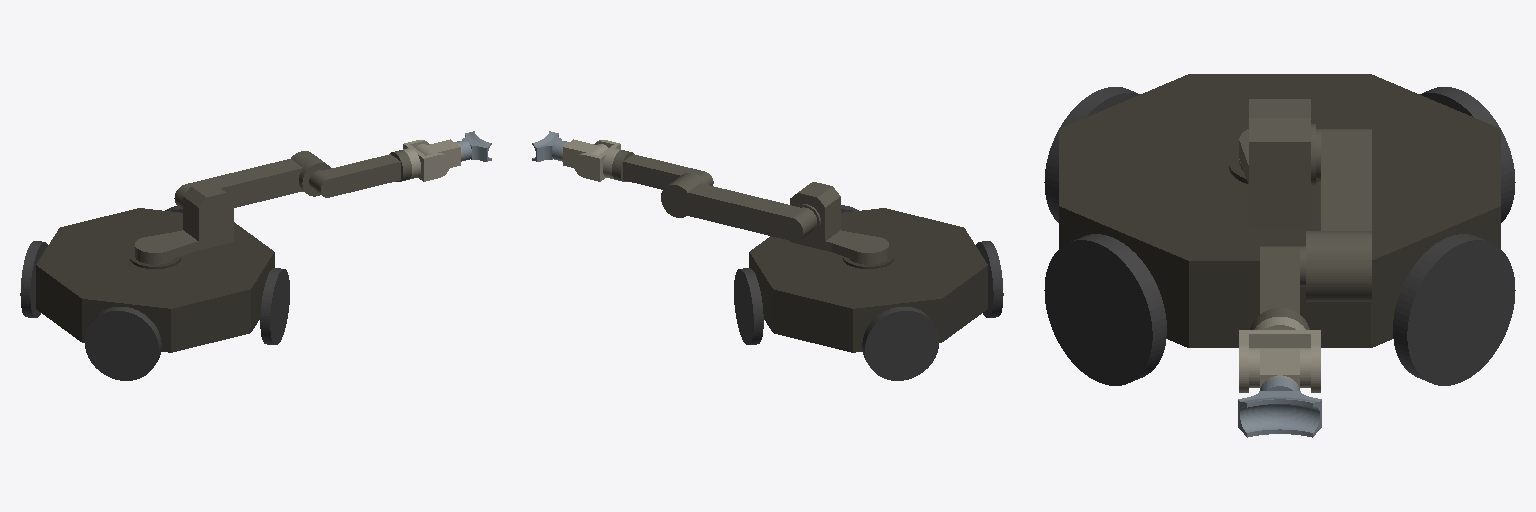
robot.urdf — D:\Cool_shit\Cool_code\OnShape robot\my-robot2:
<?xml version="1.0"?>
<!-- Generated using onshape-to-robot -->
<!-- Onshape
https://cad.onshape.com/documents/4865f398df68ad124dca97b4/w/fe60e401ba5973c10da35e1e/e/11b5855565c82aa8f3341dea -->
<robot name="D:\Cool_shit\Cool_code\OnShape robot\my-robot2">
    <!-- Link chassis_base -->
    <link name="chassis_base">
        <inertial>
            <origin xyz="-0 -0 0.0601917" rpy="0 0 0" />
            <mass value="10.4326" />
            <inertia ixx="0.220472" ixy="0" ixz="0" iyy="0.220472" iyz="0" izz="0.415751" />
        </inertial>
        <!-- Part chassis_base -->
        <visual>
            <origin xyz="-0 0 0" rpy="0 -0 0" />
            <geometry>
                <mesh filename="package://robot/discription/assets/chassis_base.stl" />
            </geometry>
            <material name="chassis_base_material">
                <color rgba="0.301961 0.290196 0.262745 1" />
            </material>
        </visual>
        <collision>
            <origin xyz="-0 0 0" rpy="0 -0 0" />
            <geometry>
                <mesh filename="package://robot/discription/assets/chassis_base.stl" />
            </geometry>
        </collision>
    </link>
    <!-- Link wheel -->
    <link name="wheel">
        <inertial>
            <origin xyz="-0 0 -0.0374135" rpy="0 0 0" />
            <mass value="0.453592" />
            <inertia ixx="0.00103386" ixy="-0" ixz="0" iyy="0.00103386" iyz="0" izz="0.00200356" />
        </inertial>
        <!-- Part wheel -->
        <visual>
            <origin xyz="-0 0 -0.0508" rpy="-1.5708 0 0" />
            <geometry>
                <mesh filename="package://robot/discription/assets/wheel.stl" />
            </geometry>
            <material name="wheel_material">
                <color rgba="0.301961 0.301961 0.301961 1" />
            </material>
        </visual>
        <collision>
            <origin xyz="-0 0 -0.0508" rpy="-1.5708 0 0" />
            <geometry>
                <mesh filename="package://robot/discription/assets/wheel.stl" />
            </geometry>
        </collision>
    </link>
    <!-- Joint from chassis_base to wheel -->
    <joint name="FL_wheel" type="continuous">
        <origin xyz="0.189964 -0.189964 0.0254" rpy="-1.5708 0 0.785398" />
        <parent link="chassis_base" />
        <child link="wheel" />
        <axis xyz="0 0 1" />
        <limit effort="10" velocity="10" />
    </joint>
    <!-- Link wheel_2 -->
    <link name="wheel_2">
        <inertial>
            <origin xyz="-0 0 -0.0374135" rpy="0 0 0" />
            <mass value="0.453592" />
            <inertia ixx="0.00103386" ixy="-0" ixz="0" iyy="0.00103386" iyz="0" izz="0.00200356" />
        </inertial>
        <!-- Part wheel_2 -->
        <visual>
            <origin xyz="-0 0 -0.0508" rpy="-1.5708 -0 0" />
            <geometry>
                <mesh filename="package://robot/discription/assets/wheel.stl" />
            </geometry>
            <material name="wheel_2_material">
                <color rgba="0.301961 0.301961 0.301961 1" />
            </material>
        </visual>
        <collision>
            <origin xyz="-0 0 -0.0508" rpy="-1.5708 -0 0" />
            <geometry>
                <mesh filename="package://robot/discription/assets/wheel.stl" />
            </geometry>
        </collision>
    </link>
    <!-- Joint from chassis_base to wheel_2 -->
    <joint name="BL_wheel" type="continuous">
        <origin xyz="0.189964 0.189964 0.0254" rpy="-1.5708 -0 2.35619" />
        <parent link="chassis_base" />
        <child link="wheel_2" />
        <axis xyz="0 0 1" />
        <limit effort="10" velocity="10" />
    </joint>
    <!-- Link wheel_3 -->
    <link name="wheel_3">
        <inertial>
            <origin xyz="0 0 -0.0374135" rpy="0 0 0" />
            <mass value="0.453592" />
            <inertia ixx="0.00103386" ixy="0" ixz="-0" iyy="0.00103386" iyz="-0" izz="0.00200356" />
        </inertial>
        <!-- Part wheel_3 -->
        <visual>
            <origin xyz="0 -0 -0.0508" rpy="-1.5708 0 0" />
            <geometry>
                <mesh filename="package://robot/discription/assets/wheel.stl" />
            </geometry>
            <material name="wheel_3_material">
                <color rgba="0.301961 0.301961 0.301961 1" />
            </material>
        </visual>
        <collision>
            <origin xyz="0 -0 -0.0508" rpy="-1.5708 0 0" />
            <geometry>
                <mesh filename="package://robot/discription/assets/wheel.stl" />
            </geometry>
        </collision>
    </link>
    <!-- Joint from chassis_base to wheel_3 -->
    <joint name="BR_wheel" type="continuous">
        <origin xyz="-0.189964 0.189964 0.0254" rpy="0.785398 1.5708 0" />
        <parent link="chassis_base" />
        <child link="wheel_3" />
        <axis xyz="0 0 1" />
        <limit effort="10" velocity="10" />
    </joint>
    <!-- Link wheel_4 -->
    <link name="wheel_4">
        <inertial>
            <origin xyz="0 0 -0.0374135" rpy="0 0 0" />
            <mass value="0.453592" />
            <inertia ixx="0.00103386" ixy="0" ixz="-0" iyy="0.00103386" iyz="-0" izz="0.00200356" />
        </inertial>
        <!-- Part wheel_4 -->
        <visual>
            <origin xyz="0 0 -0.0508" rpy="-1.5708 -0 0" />
            <geometry>
                <mesh filename="package://robot/discription/assets/wheel.stl" />
            </geometry>
            <material name="wheel_4_material">
                <color rgba="0.301961 0.301961 0.301961 1" />
            </material>
        </visual>
        <collision>
            <origin xyz="0 0 -0.0508" rpy="-1.5708 -0 0" />
            <geometry>
                <mesh filename="package://robot/discription/assets/wheel.stl" />
            </geometry>
        </collision>
    </link>
    <!-- Joint from chassis_base to wheel_4 -->
    <joint name="FR_wheel" type="continuous">
        <origin xyz="-0.189964 -0.189964 0.0254" rpy="1.5708 0 2.35619" />
        <parent link="chassis_base" />
        <child link="wheel_4" />
        <axis xyz="0 0 1" />
        <limit effort="10" velocity="10" />
    </joint>
    <!-- Link sholder_link -->
    <link name="sholder_link">
        <inertial>
            <origin xyz="0.11856 0.000824426 -0.0233279" rpy="0 0 0" />
            <mass value="3.17515" />
            <inertia ixx="0.00734966" ixy="-8.85808e-05" ixz="-0.00458909" iyy="0.0191744"
                iyz="-6.10648e-05" izz="0.0153109" />
        </inertial>
        <!-- Part sholder_link -->
        <visual>
            <origin xyz="-0 0 -0.08255" rpy="0 -0 1.5708" />
            <geometry>
                <mesh filename="package://robot/discription/assets/sholder_link.stl" />
            </geometry>
            <material name="sholder_link_material">
                <color rgba="0.4 0.388235 0.34902 1" />
            </material>
        </visual>
        <collision>
            <origin xyz="-0 0 -0.08255" rpy="0 -0 1.5708" />
            <geometry>
                <mesh filename="package://robot/discription/assets/sholder_link.stl" />
            </geometry>
        </collision>
    </link>
    <!-- Link elbow_link -->
    <link name="elbow_link">
        <inertial>
            <origin xyz="0.187183 0 0.0794517" rpy="0 0 0" />
            <mass value="2.30017" />
            <inertia ixx="0.00185382" ixy="0" ixz="0.000723181" iyy="0.0338876" iyz="0"
                izz="0.0337722" />
        </inertial>
        <!-- Part elbow_link -->
        <visual>
            <origin xyz="0 0 0.0508" rpy="-1.5708 -1.5708 0" />
            <geometry>
                <mesh filename="package://robot/discription/assets/elbow_link.stl" />
            </geometry>
            <material name="elbow_link_material">
                <color rgba="0.4 0.388235 0.34902 1" />
            </material>
        </visual>
        <collision>
            <origin xyz="0 0 0.0508" rpy="-1.5708 -1.5708 0" />
            <geometry>
                <mesh filename="package://robot/discription/assets/elbow_link.stl" />
            </geometry>
        </collision>
    </link>
    <!-- Link forearm_link -->
    <link name="forearm_link">
        <inertial>
            <origin xyz="0.110324 -0 -0.031228" rpy="0 0 0" />
            <mass value="1.39979" />
            <inertia ixx="0.000678317" ixy="0" ixz="8.0609e-05" iyy="0.00841159" iyz="-0"
                izz="0.00838963" />
        </inertial>
        <!-- Part forearm_link -->
        <visual>
            <origin xyz="-0 -0 -0.00635" rpy="-1.5708 1.5708 0" />
            <geometry>
                <mesh filename="package://robot/discription/assets/forearm_link.stl" />
            </geometry>
            <material name="forearm_link_material">
                <color rgba="0.4 0.388235 0.34902 1" />
            </material>
        </visual>
        <collision>
            <origin xyz="-0 -0 -0.00635" rpy="-1.5708 1.5708 0" />
            <geometry>
                <mesh filename="package://robot/discription/assets/forearm_link.stl" />
            </geometry>
        </collision>
    </link>
    <!-- Link wrist_joint_1 -->
    <link name="wrist_joint_1">
        <inertial>
            <origin xyz="0 0 -0.0317922" rpy="0 0 0" />
            <mass value="1.00017" />
            <inertia ixx="0.00172648" ixy="0" ixz="0" iyy="0.00101253" iyz="0" izz="0.00135586" />
        </inertial>
        <!-- Part wrist_joint_1 -->
        <visual>
            <origin xyz="0 -0 -0.06985" rpy="-1.5708 0 -1.5708" />
            <geometry>
                <mesh filename="package://robot/discription/assets/wrist_joint_1.stl" />
            </geometry>
            <material name="wrist_joint_1_material">
                <color rgba="0.6 0.580392 0.529412 1" />
            </material>
        </visual>
        <collision>
            <origin xyz="0 -0 -0.06985" rpy="-1.5708 0 -1.5708" />
            <geometry>
                <mesh filename="package://robot/discription/assets/wrist_joint_1.stl" />
            </geometry>
        </collision>
    </link>
    <!-- Link wrist_joint_2 -->
    <link name="wrist_joint_2">
        <inertial>
            <origin xyz="-0.0277563 0 -0.03175" rpy="0 0 0" />
            <mass value="1.00017" />
            <inertia ixx="0.000465178" ixy="-0" ixz="0" iyy="0.00115046" iyz="-0" izz="0.00108167" />
        </inertial>
        <!-- Part wrist_joint_2 -->
        <visual>
            <origin xyz="0.06985 0 -0.03175" rpy="-1.5708 -1.5708 0" />
            <geometry>
                <mesh filename="package://robot/discription/assets/wrist_joint_2.stl" />
            </geometry>
            <material name="wrist_joint_2_material">
                <color rgba="0.6 0.580392 0.529412 1" />
            </material>
        </visual>
        <collision>
            <origin xyz="0.06985 0 -0.03175" rpy="-1.5708 -1.5708 0" />
            <geometry>
                <mesh filename="package://robot/discription/assets/wrist_joint_2.stl" />
            </geometry>
        </collision>
    </link>
    <!-- Link end_effector -->
    <link name="end_effector">
        <inertial>
            <origin xyz="-1.34881e-07 -3.82236e-07 0.114216" rpy="0 0 0" />
            <mass value="0.600103" />
            <inertia ixx="0.000462123" ixy="-3.002e-09" ixz="2.175e-09" iyy="0.000292008"
                iyz="4.68e-09" izz="0.000373244" />
        </inertial>
        <!-- Part end_effector -->
        <visual>
            <origin xyz="0 0 0.08255" rpy="-1.5708 -0 -1.5708" />
            <geometry>
                <mesh filename="package://robot/discription/assets/end_effector.stl" />
            </geometry>
            <material name="end_effector_material">
                <color rgba="0.529412 0.568627 0.6 1" />
            </material>
        </visual>
        <collision>
            <origin xyz="0 0 0.08255" rpy="-1.5708 -0 -1.5708" />
            <geometry>
                <mesh filename="package://robot/discription/assets/end_effector.stl" />
            </geometry>
        </collision>
    </link>
    <!-- Frame end_effector_pose (dummy link + fixed joint) -->
    <link name="end_effector_pose">
        <origin xyz="0 0 0" rpy="0 -0 0" />
        <inertial>
            <origin xyz="0 0 0" rpy="0 0 0" />
            <mass value="1e-9" />
            <inertia ixx="0" ixy="0" ixz="0" iyy="0" iyz="0" izz="0" />
        </inertial>
    </link>
    <joint name="end_effector_pose_frame" type="fixed">
        <origin xyz="0.0175 -0 0.226298" rpy="3.14159 -1.5708 0" />
        <parent link="end_effector" />
        <child link="end_effector_pose" />
        <axis xyz="0 0 0" />
    </joint>
    <!-- Joint from wrist_joint_2 to end_effector -->
    <joint name="wrist_yaw" type="revolute">
        <origin xyz="-0 0 -0.03175" rpy="-1.5708 0 1.5708" />
        <parent link="wrist_joint_2" />
        <child link="end_effector" />
        <axis xyz="0 0 1" />
        <limit effort="3.5" velocity="12.57" lower="-4.71239" upper="4.71239" />
    </joint>
    <!-- Joint from wrist_joint_1 to wrist_joint_2 -->
    <joint name="wrist_pitch" type="revolute">
        <origin xyz="-0 0.03175 0" rpy="-1.5708 1.5708 0" />
        <parent link="wrist_joint_1" />
        <child link="wrist_joint_2" />
        <axis xyz="0 0 1" />
        <limit effort="3.5" velocity="12.57" lower="-1.98968" upper="1.98968" />
    </joint>
    <!-- Joint from forearm_link to wrist_joint_1 -->
    <joint name="forearm_twist" type="revolute">
        <origin xyz="0.29845 -0 -0.03175" rpy="1.5708 0 1.5708" />
        <parent link="forearm_link" />
        <child link="wrist_joint_1" />
        <axis xyz="0 0 1" />
        <limit effort="3.5" velocity="12.57" lower="-4.71239" upper="4.71239" />
    </joint>
    <!-- Joint from elbow_link to forearm_link -->
    <joint name="elbow" type="revolute">
        <origin xyz="0.3302 0 0.03175" rpy="0 0 0" />
        <parent link="elbow_link" />
        <child link="forearm_link" />
        <axis xyz="0 0 1" />
        <limit effort="14" velocity="3.77" lower="-2.79253" upper="2.79253" />
    </joint>
    <!-- Joint from sholder_link to elbow_link -->
    <joint name="shoulder" type="revolute">
        <origin xyz="0.1524 -0 0" rpy="-1.5708 0 0" />
        <parent link="sholder_link" />
        <child link="elbow_link" />
        <axis xyz="0 0 1" />
        <limit effort="30" velocity="10.47" lower="-3.23438" upper="0.415388" />
    </joint>
    <!-- Joint from chassis_base to sholder_link -->
    <joint name="yaw" type="continuous">
        <origin xyz="-0 0 0.2089" rpy="0 -0 0" />
        <parent link="chassis_base" />
        <child link="sholder_link" />
        <axis xyz="0 0 1" />
        <limit effort="3.5" velocity="10" />
    </joint>
</robot>

--- Facts derived from the render (not from the file) ---
3 views of the same robot in one strip: view 1: azimuth 30°, elevation 25°; view 2: azimuth 150°, elevation 25°; view 3: azimuth 270°, elevation 25° (orthographic).
Robot: D:\Cool_shit\Cool_code\OnShape robot\my-robot2 — 12 links, 11 joints (5 revolute, 5 continuous, 1 fixed); root link chassis_base; default pose: every joint at zero.
Visible links, largest first — view 1: chassis_base, wheel_4, sholder_link, elbow_link, forearm_link, wheel, wrist_joint_1, wheel_3, end_effector, wrist_joint_2; view 2: chassis_base, elbow_link, wheel_3, sholder_link, forearm_link, wheel_2, wrist_joint_1, wheel_4, end_effector, wrist_joint_2; view 3: chassis_base, wheel, wheel_2, elbow_link, sholder_link, end_effector, forearm_link, wrist_joint_1, wheel_3, wheel_4, wrist_joint_2.
Link boxes in pixels (x1=…): chassis_base: x1=36, y1=208, x2=274, y2=352; wheel_4: x1=85, y1=307, x2=161, y2=380; sholder_link: x1=135, y1=182, x2=233, y2=264; elbow_link: x1=174, y1=151, x2=330, y2=208; forearm_link: x1=309, y1=150, x2=411, y2=197; wheel: x1=260, y1=268, x2=289, y2=344; wrist_joint_1: x1=403, y1=140, x2=449, y2=181; wheel_3: x1=20, y1=241, x2=47, y2=317; end_effector: x1=457, y1=131, x2=491, y2=161; wrist_joint_2: x1=417, y1=139, x2=462, y2=167; chassis_base: x1=749, y1=208, x2=987, y2=352; elbow_link: x1=661, y1=173, x2=816, y2=241; wheel_3: x1=862, y1=307, x2=938, y2=380; sholder_link: x1=790, y1=182, x2=888, y2=264; forearm_link: x1=612, y1=150, x2=713, y2=189; wheel_2: x1=734, y1=268, x2=763, y2=344; wrist_joint_1: x1=574, y1=140, x2=620, y2=181; wheel_4: x1=976, y1=241, x2=1003, y2=317; end_effector: x1=532, y1=131, x2=566, y2=161; wrist_joint_2: x1=561, y1=139, x2=606, y2=167; chassis_base: x1=1059, y1=74, x2=1500, y2=347; wheel: x1=1044, y1=234, x2=1166, y2=385; wheel_2: x1=1393, y1=234, x2=1515, y2=385; elbow_link: x1=1306, y1=129, x2=1371, y2=301; sholder_link: x1=1239, y1=99, x2=1315, y2=226; end_effector: x1=1238, y1=377, x2=1321, y2=437; forearm_link: x1=1250, y1=246, x2=1309, y2=329; wrist_joint_1: x1=1239, y1=317, x2=1320, y2=392; wheel_3: x1=1420, y1=87, x2=1515, y2=222; wheel_4: x1=1044, y1=87, x2=1139, y2=222; wrist_joint_2: x1=1254, y1=348, x2=1305, y2=390.
Bounding box of the posed robot: 1.23 × 0.5865 × 0.3422 m (x, y, z).
Meshes: 8 distinct files referenced, 11 mesh visuals loaded (8 binary STL).
